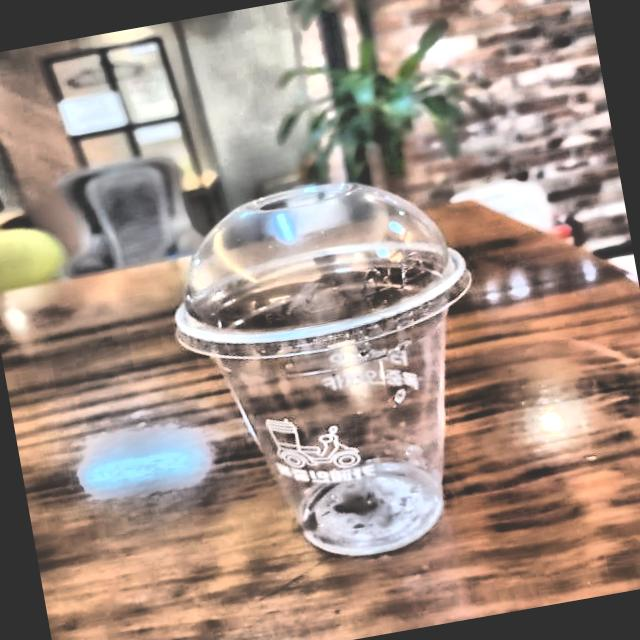plastic cup: (136, 135, 556, 624)
